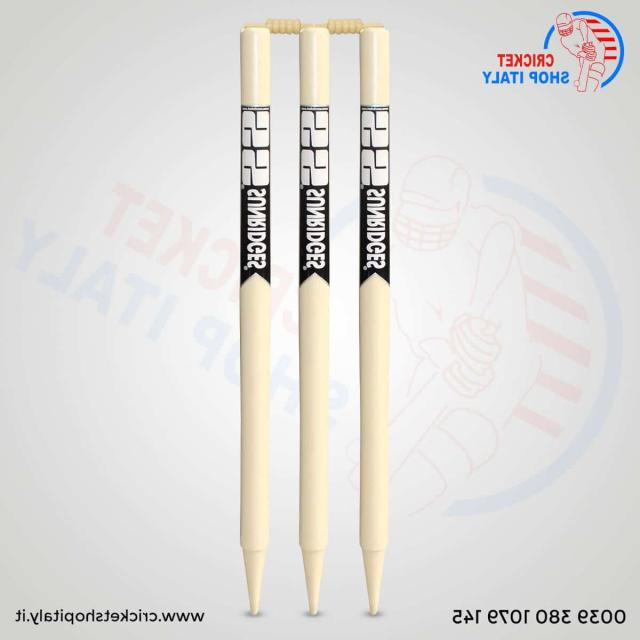stump: (235, 18, 393, 612)
